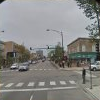crosswalk: (0, 79, 76, 88), (28, 68, 52, 71)
